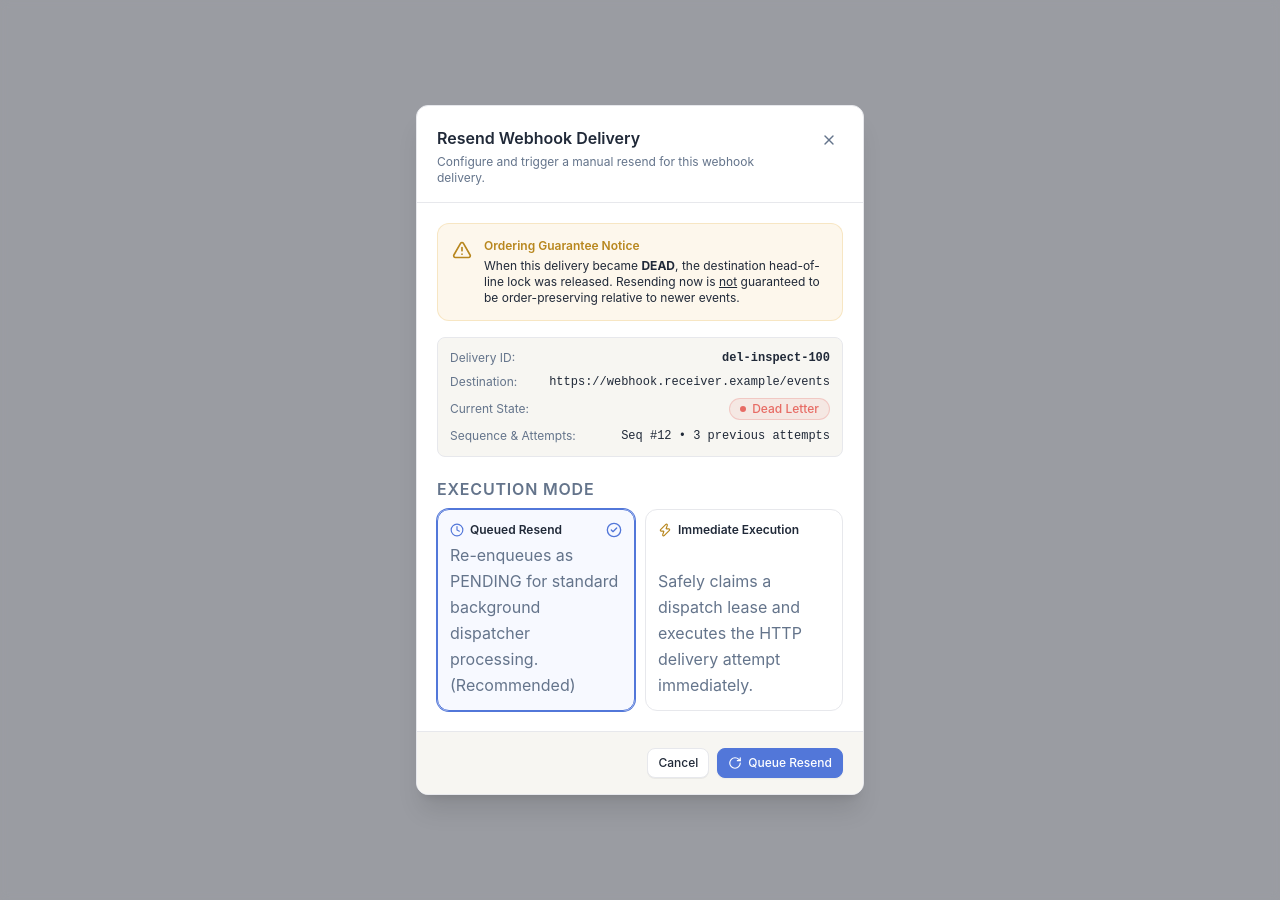
Test case: Tanvi's Phase 2 Task: Delivery Inspector & Resend Flow (Frontend) › 3. ResendModal: State Notices & Execution Modes › allows toggling between Queued Resend and Immediate Execution
Expected: the button "Queue Resend" is shown, [717, 748, 843, 778]
// Switch to Immediate Execution
Click the button with test id "resend-mode-immediate": coordinates (744, 610) [645, 509, 843, 711]
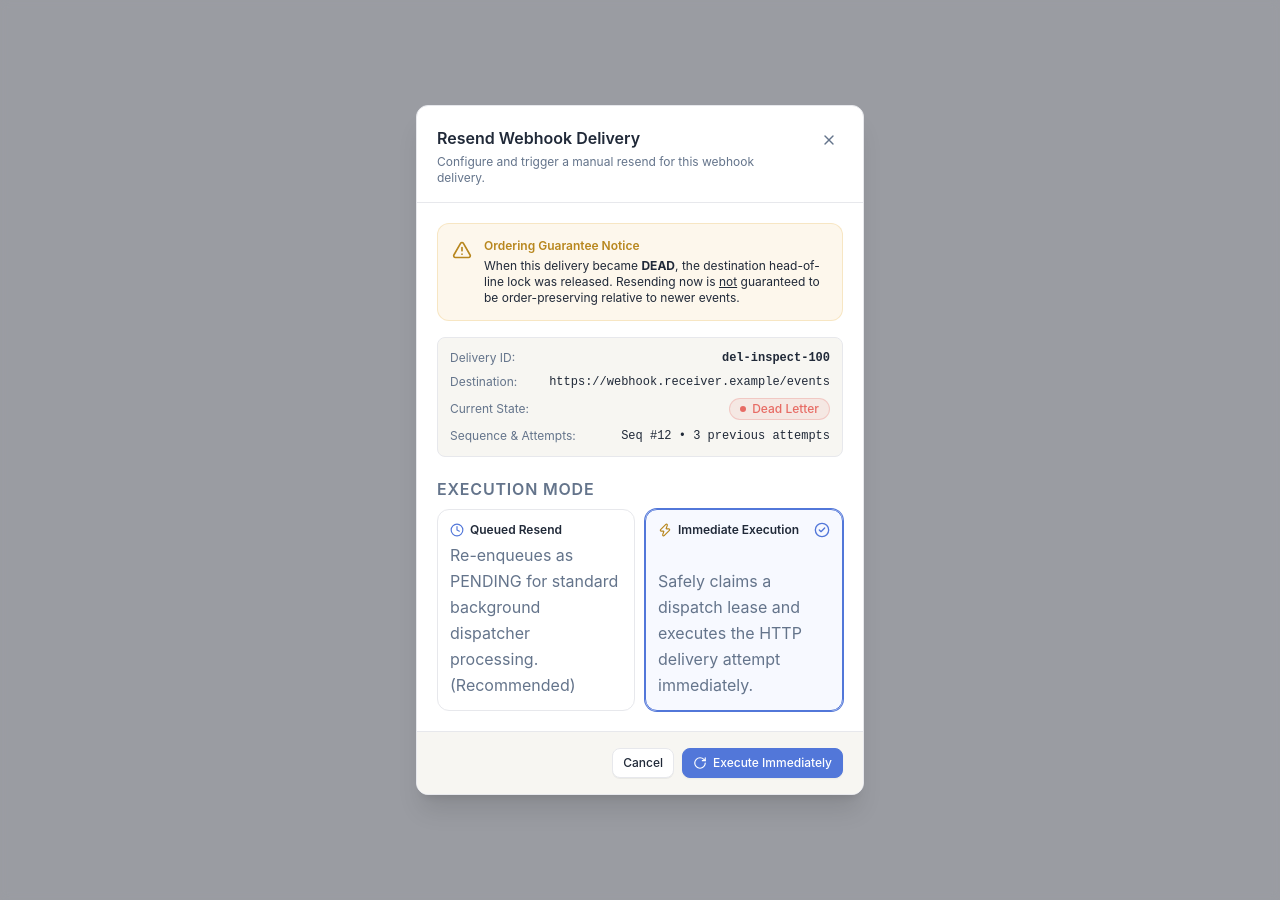
Expected: the button "Execute Immediately" is shown, [682, 748, 843, 778]
// Switch back to Queued
Click the button with test id "resend-mode-queued": coordinates (536, 610) [437, 509, 635, 711]
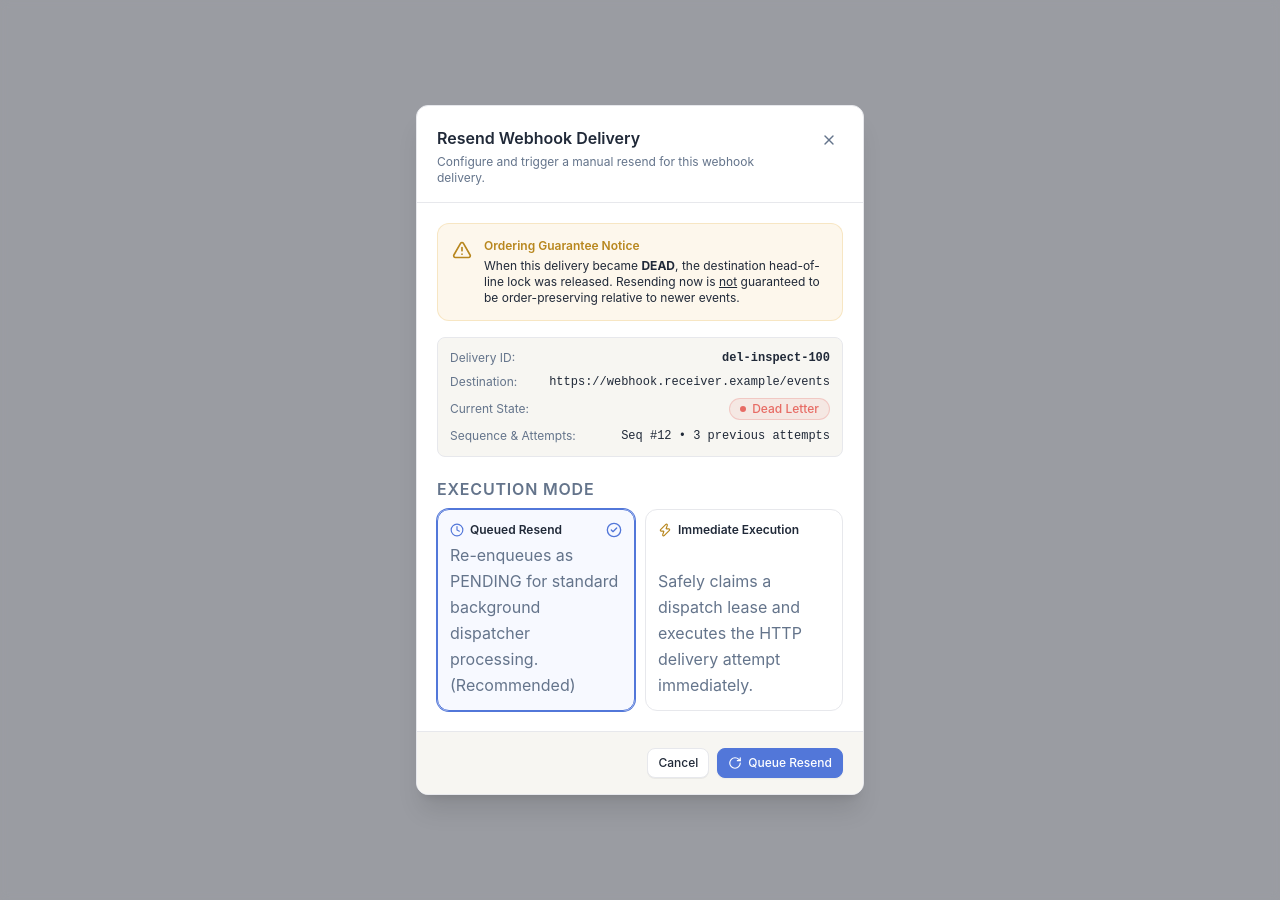
Expected: the button "Queue Resend" is shown, [717, 748, 843, 778]
